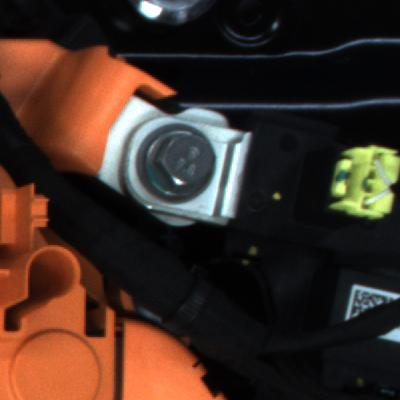nut_b: (131, 122, 232, 212)
